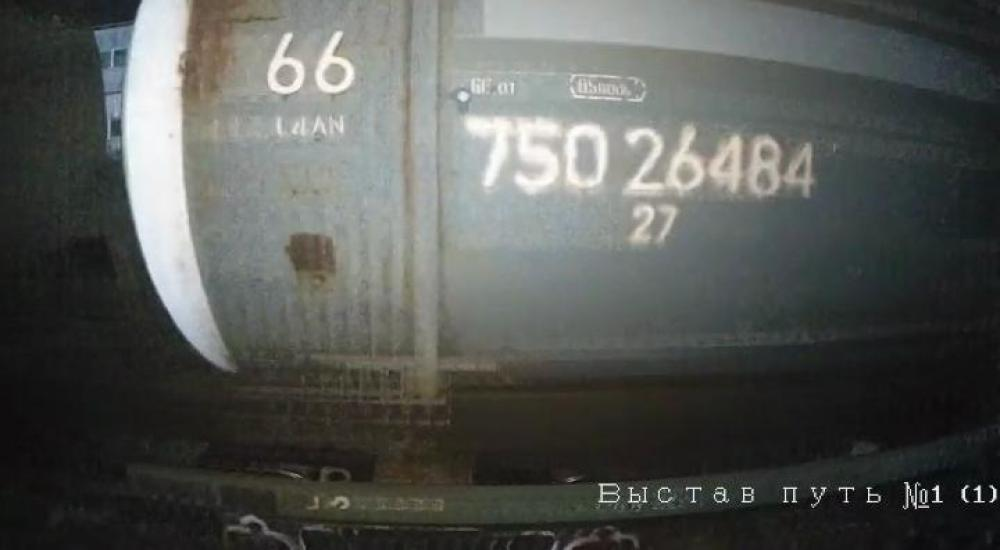Wagon-number: (461, 112, 820, 206)
